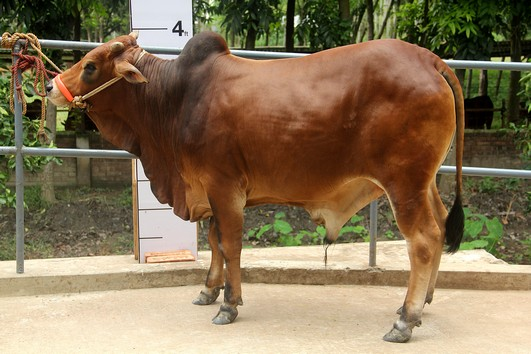cow: (38, 22, 479, 345)
